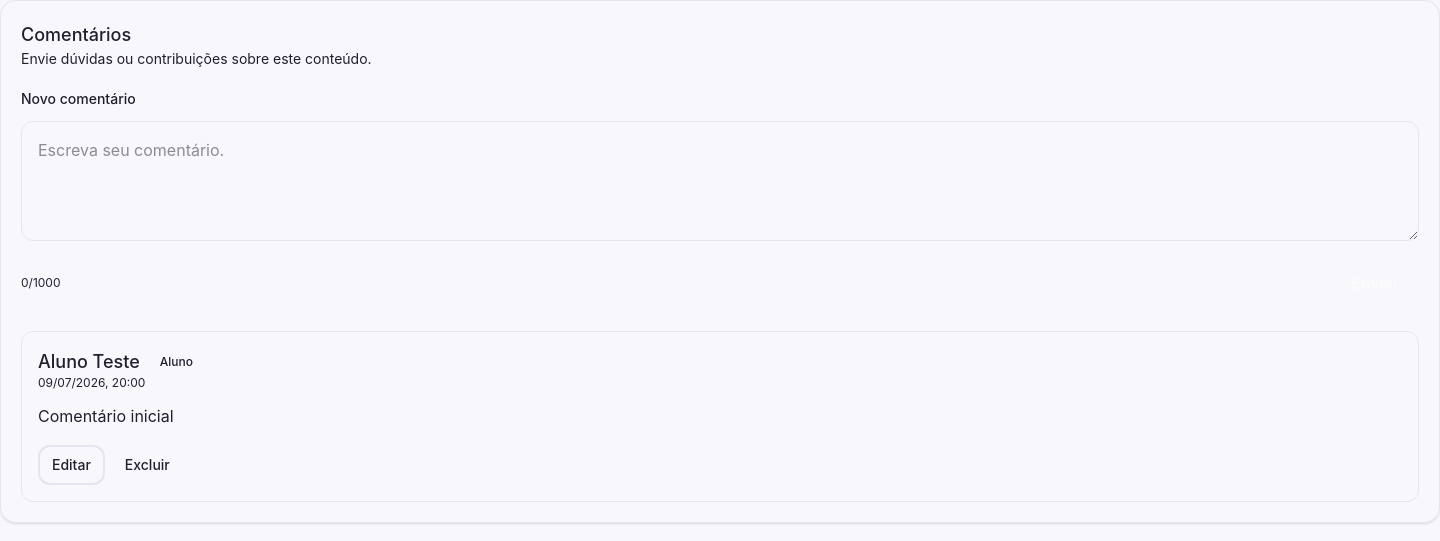
Scenario: ComentariosSection › exclui comentário permitido
expect the text "Comentário inicial" is shown: met, box [38,406,174,426]
Step 1. Click the button "Excluir" → (147, 465), box [113,445,182,485]
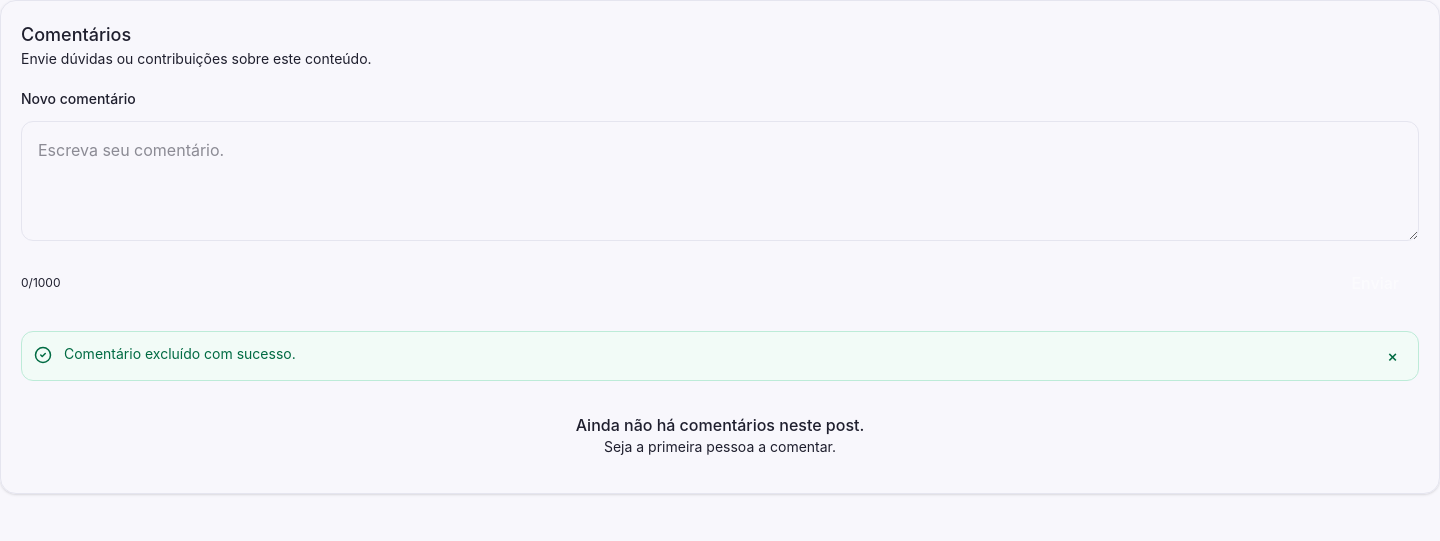
expect the text "Comentário excluído com sucesso." is shown: met, box [64,345,296,362]
